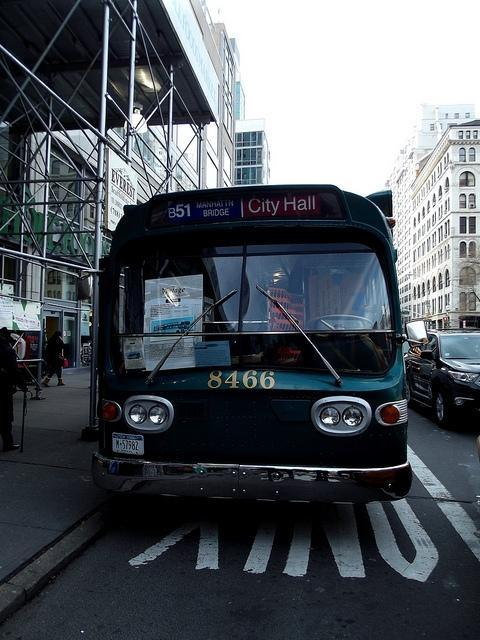bus: (92, 187, 413, 500)
car: (404, 328, 480, 428)
